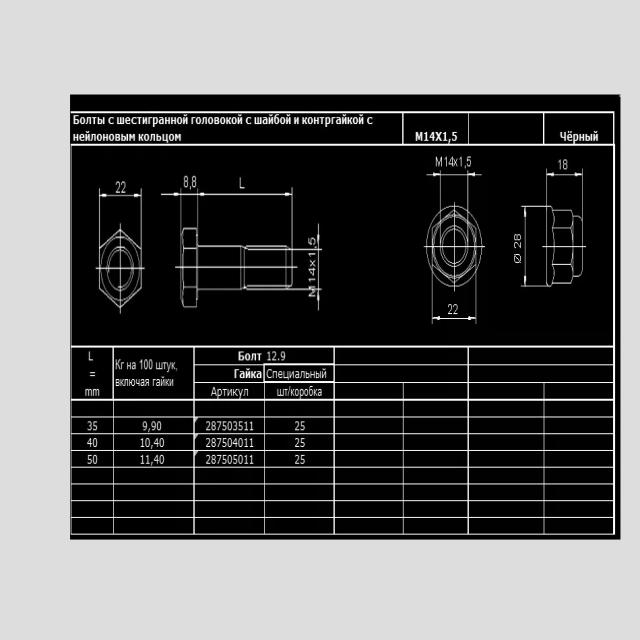marking_line: (160, 192, 291, 197), (522, 206, 527, 286), (434, 314, 477, 322), (545, 171, 584, 178), (100, 193, 141, 197), (316, 226, 321, 249), (316, 290, 321, 312), (427, 172, 440, 177), (469, 172, 482, 177)
numeric: (205, 420, 256, 432), (206, 455, 257, 465), (204, 439, 256, 448), (444, 155, 473, 170), (140, 436, 167, 449), (141, 419, 164, 433), (141, 455, 167, 466), (267, 350, 288, 363), (182, 175, 198, 190), (306, 237, 316, 258), (446, 301, 459, 316), (293, 435, 308, 448), (511, 232, 522, 249), (558, 155, 569, 172), (114, 181, 127, 194), (86, 420, 100, 431), (295, 421, 307, 432), (294, 454, 306, 465), (87, 437, 100, 447), (86, 455, 99, 465), (308, 267, 316, 283)
special_symbol: (512, 253, 522, 264)
